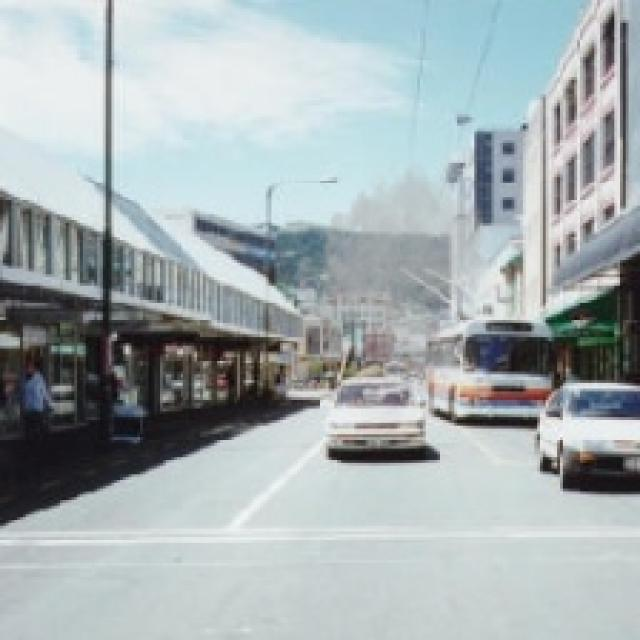smoke: (283, 154, 491, 420)
